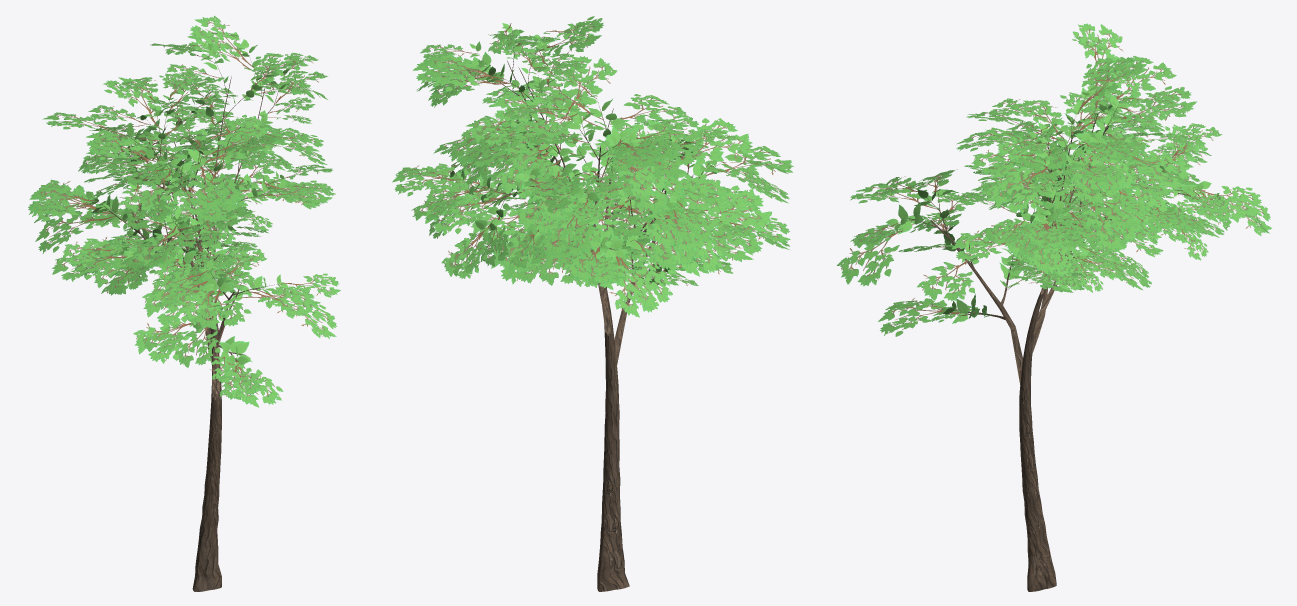
The model's file is Stylized_Broadleaf_001_2.fbx.
The picture shows the model from 3 angles, left to right: view 1: azimuth 30°, elevation 25°; view 2: azimuth 150°, elevation 25°; view 3: azimuth 270°, elevation 25°; orthographic projection. The views are drawn at different scales.
Visible parts, largest first — view 1: Stylized_Broadleaf_001_2; view 2: Stylized_Broadleaf_001_2; view 3: Stylized_Broadleaf_001_2.
Part boxes in pixels (left/top/right/bottom): Stylized_Broadleaf_001_2: left=28, top=15, right=340, bottom=591; Stylized_Broadleaf_001_2: left=392, top=16, right=793, bottom=591; Stylized_Broadleaf_001_2: left=837, top=23, right=1271, bottom=591.
Bounding box in the file's own units: 13.49 × 22.21 × 16.27.
Materials: 4 (3 with a texture image).
